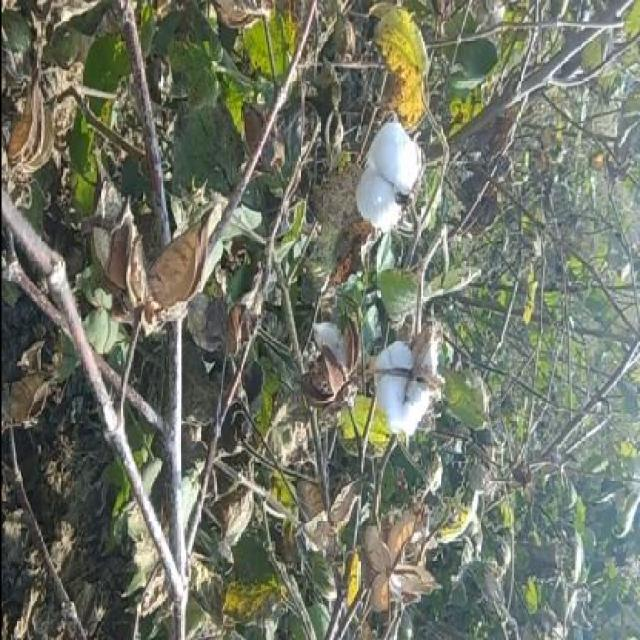cotton_ready: (360, 288, 443, 446), (342, 95, 422, 237)
